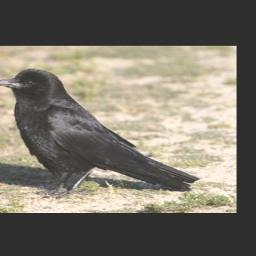Crow: (0, 67, 201, 199)
